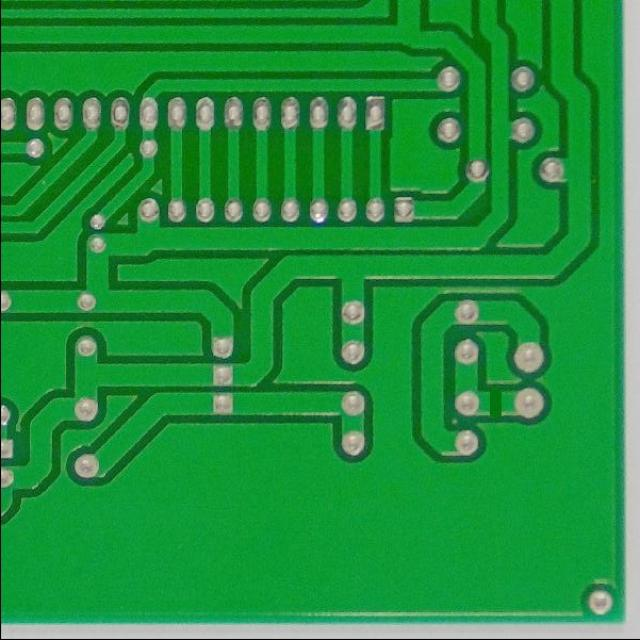Open_Circuit: (480, 378, 514, 429)
